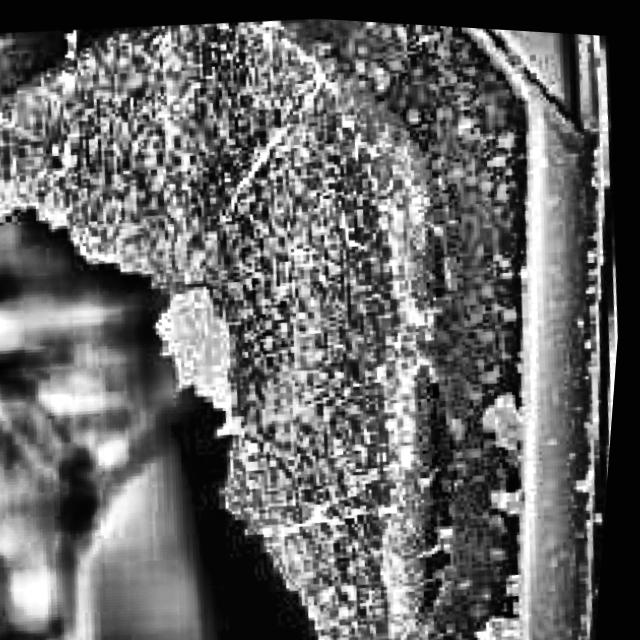glass_shatter: (0, 124, 362, 640)
